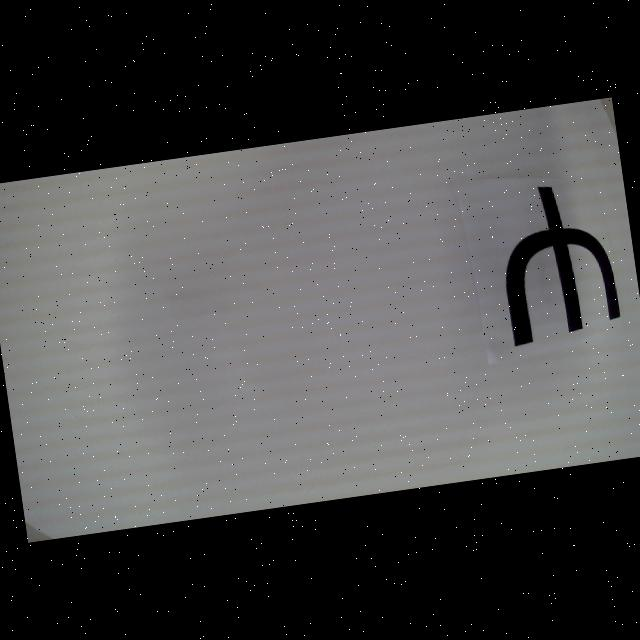PSI: (492, 178, 623, 347)
